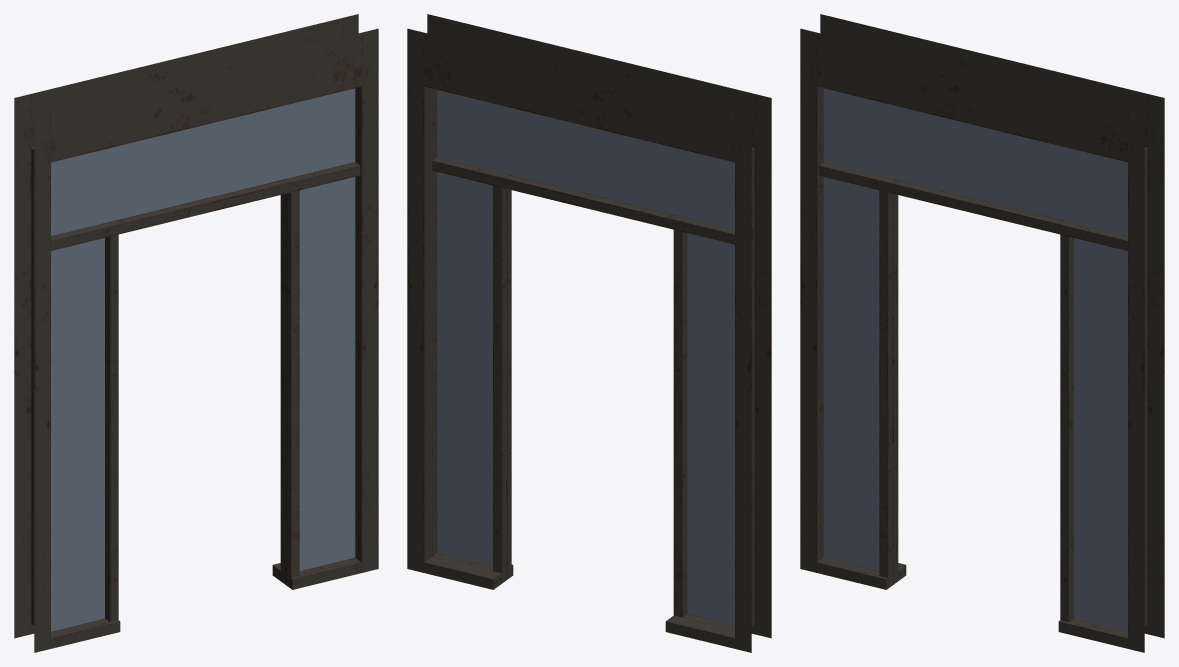
Rendered from DoorFrame_Metal_Single.gltf.
The picture shows the model from 3 angles, left to right: view 1: azimuth 30°, elevation 25°; view 2: azimuth 150°, elevation 25°; view 3: azimuth 330°, elevation 25°; orthographic projection.
Parts seen in each view (by area): view 1: DoorFrame_Metal_Single; view 2: DoorFrame_Metal_Single; view 3: DoorFrame_Metal_Single.
Boxes of the visible parts, x1,y1,x2,y2 form: DoorFrame_Metal_Single: [14, 14, 378, 652]; DoorFrame_Metal_Single: [407, 14, 771, 652]; DoorFrame_Metal_Single: [800, 14, 1164, 652].
Bounding box in the file's own units: 2 × 3 × 0.2.
2 materials, 1 textured.
